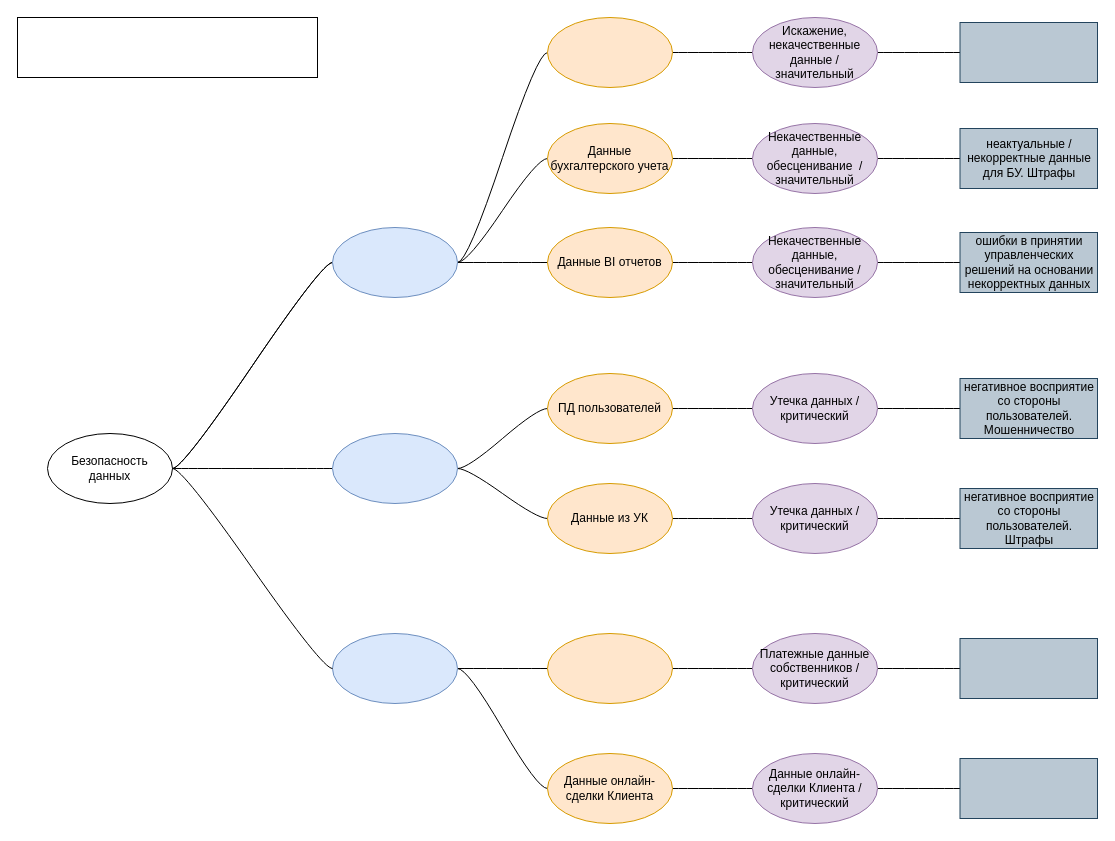
The diagram is 1115 pixels wide and 841 high, and some of its shapes have lost their labels. Here are the shapes that lost their labels. From the top down, the centre of each, then its label:
At point (167, 47): "MindMap Безопасность данных PropDevelopment".
At point (609, 52): "Данные об объектах недвижимости".
At point (1028, 52): "ошибки в оценке объекта со стороны Клиента, потеря сделки / доверия".
At point (395, 262): "Внутренние данные".
At point (395, 468): "Конфиденциальные данные".
At point (395, 668): "Секретные данные".
At point (609, 668): "Платежные данные собственников".
At point (1028, 668): "Нарушение законодательства и потеря клиентов".
At point (1028, 788): "Незаконные транзакции, потеря клиентов, прямые убытки".
